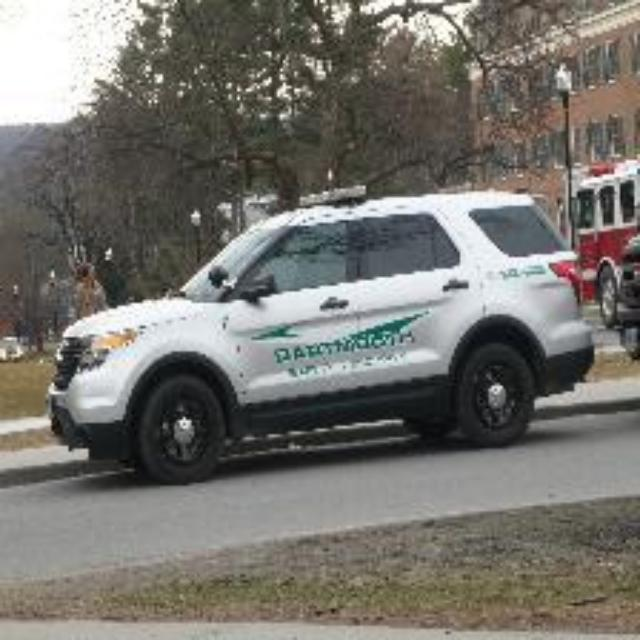emergency: (44, 179, 598, 486)
